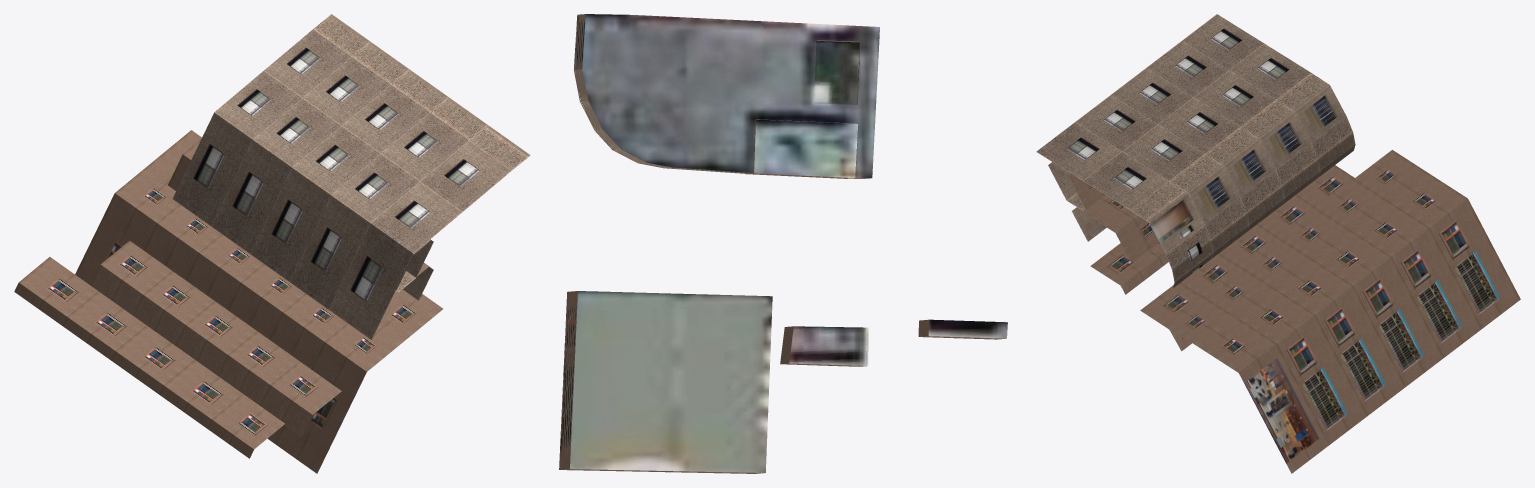
3 views of the same model, side by side, from view 1: azimuth 30°, elevation 25°; view 2: azimuth 150°, elevation 25°; view 3: azimuth 270°, elevation 25° (orthographic). The views are drawn at different scales.
Size of the model in its own units: 30.82 by 27.09 by 31.84.
Materials: 18 (18 with a texture image).
